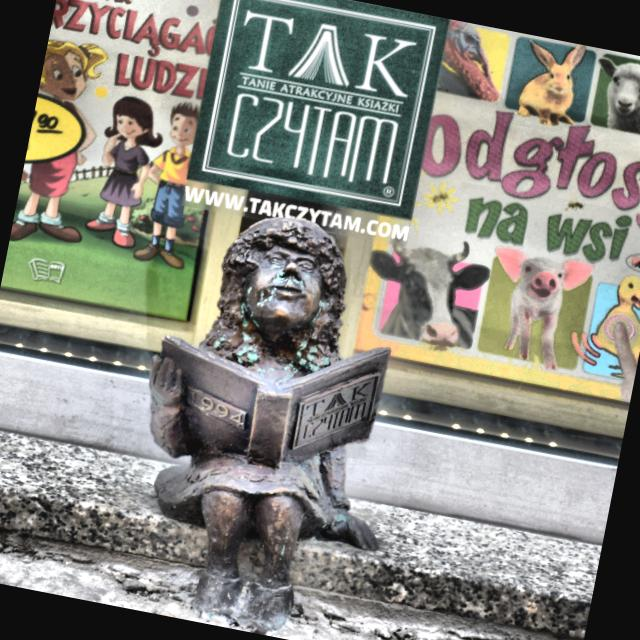Ksiegarka: (92, 189, 445, 640)
